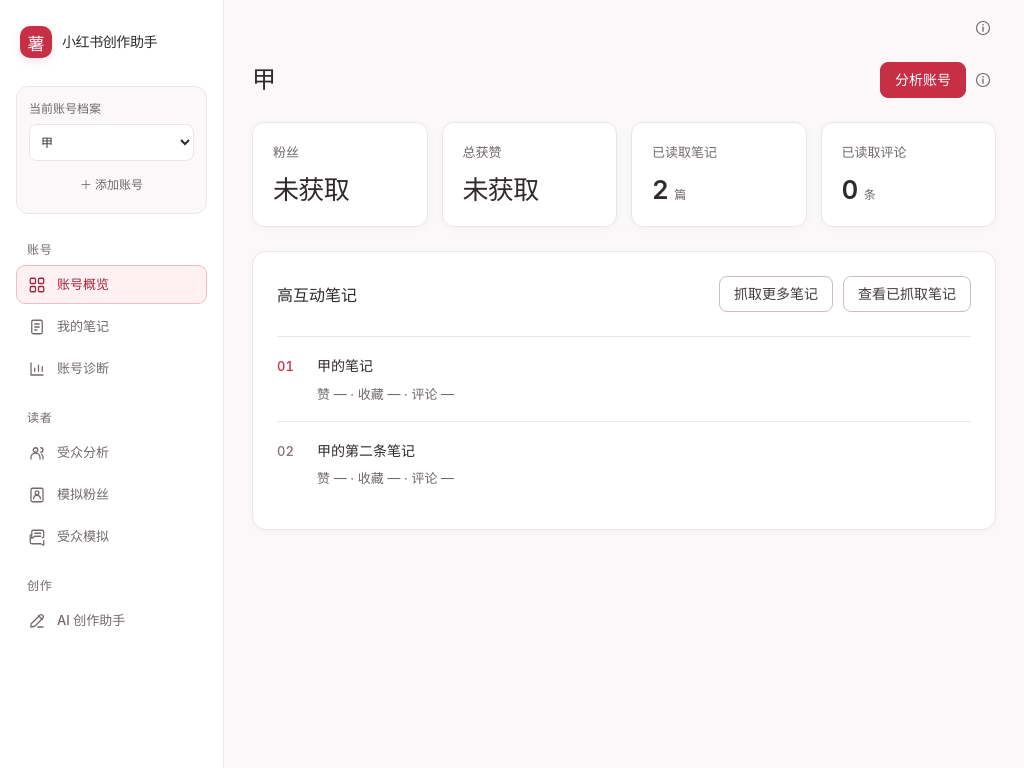
Test case: public creator journey › uses the current profile, live model and ten-note default for diagnosis
The width and height of the screenshot is (1024, 768).
Expected: the text "甲的笔记" is shown, [317,357,373,374]
Click the button "账号诊断": [112, 368] box [16,349,207,388]
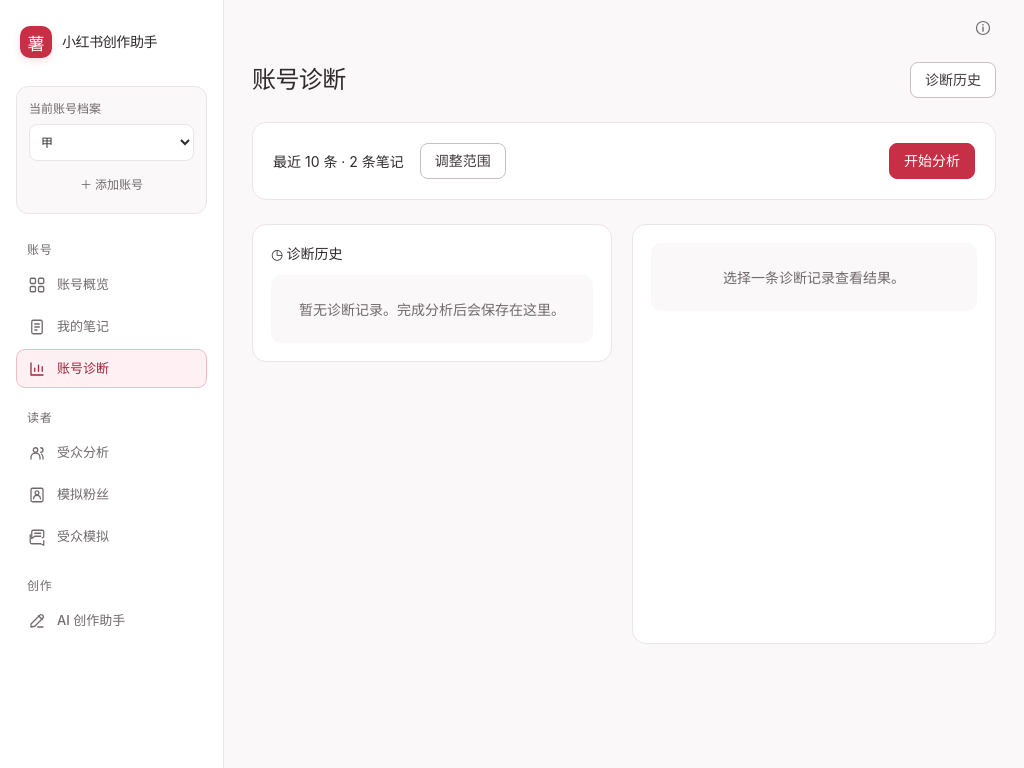
Click the button "开始分析": [932, 161] box [889,143,975,179]
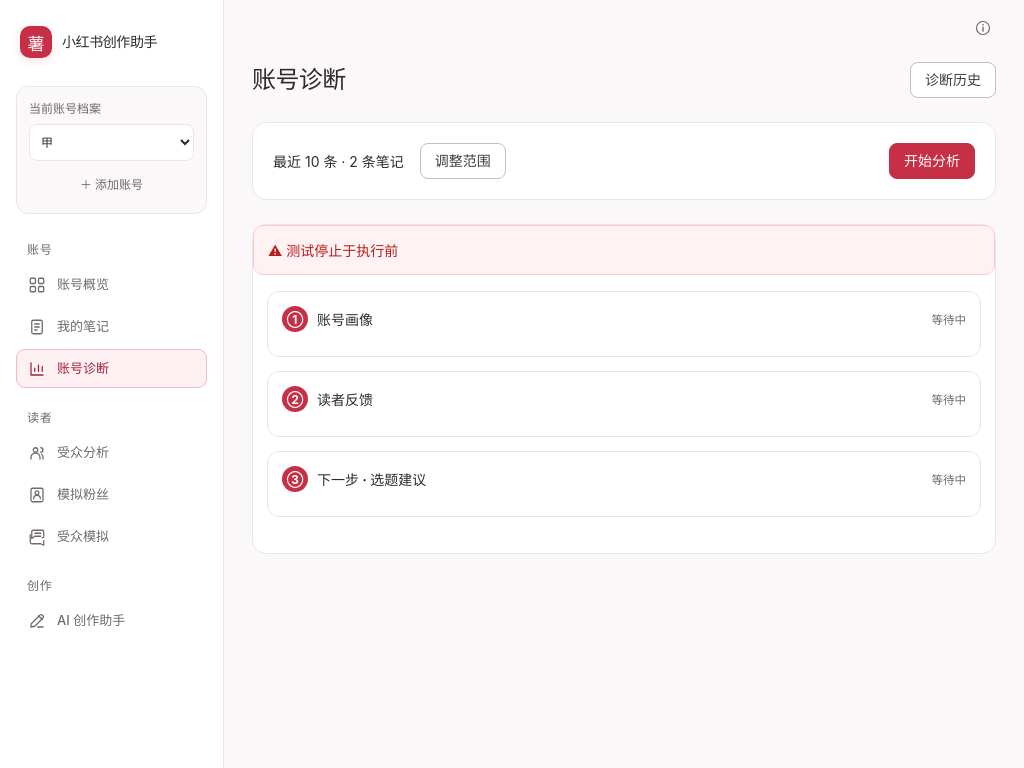
Expected: the text "⚠ 测试停止于执行前" is shown, [253,225,995,275]
